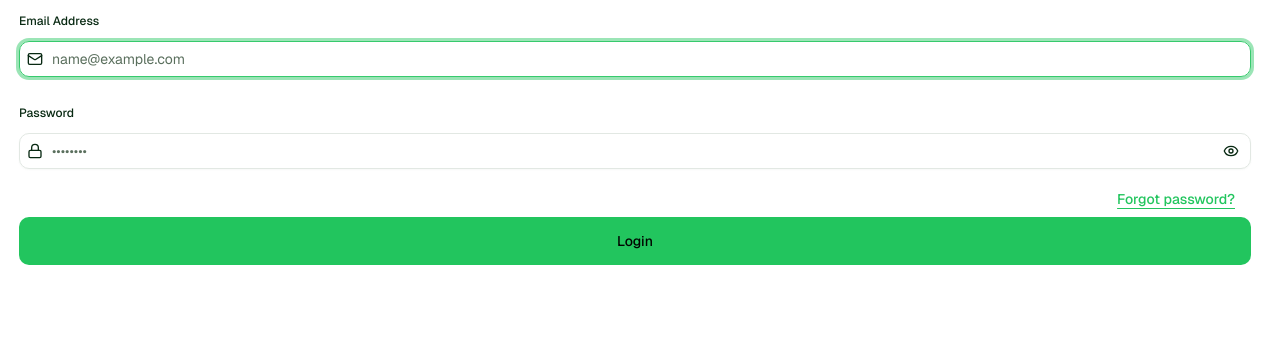
Scenario: LoginForm › Form Validation › should show error for empty email on submit
Click the button "Login" at (635, 241), box [19,217,1251,265]
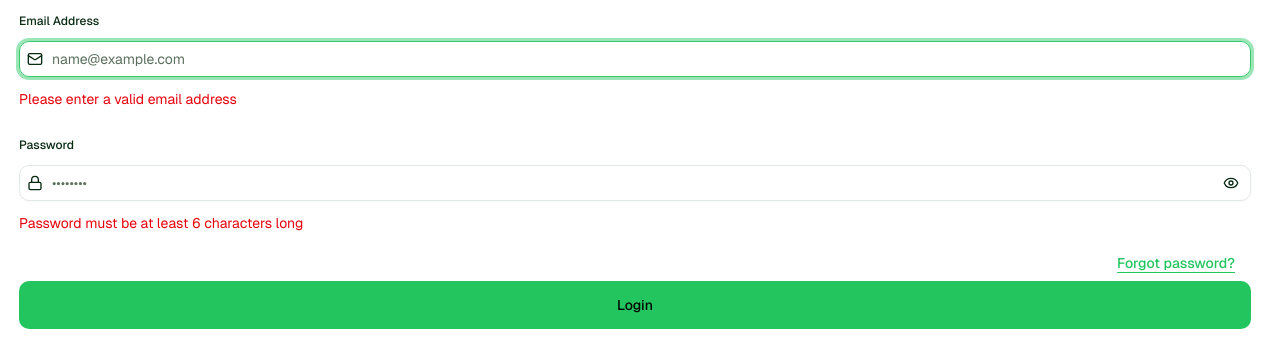
Expected: the text "Please enter a valid email address" is shown, [19,90,237,108]
